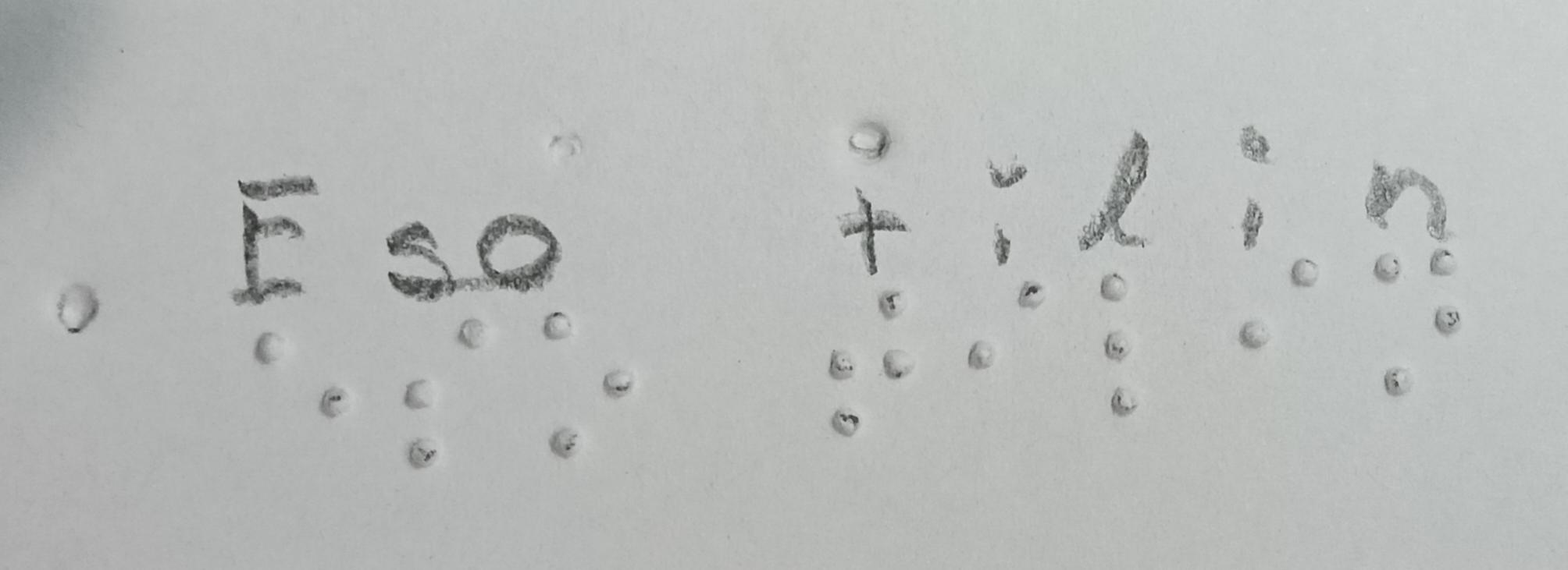e: (246, 320, 355, 429)
i: (949, 283, 1064, 390), (1220, 261, 1341, 353)
l: (1080, 263, 1167, 450)
n: (1368, 251, 1480, 405)
o: (523, 310, 646, 472)
s: (383, 318, 490, 474)
t: (795, 277, 937, 462)
